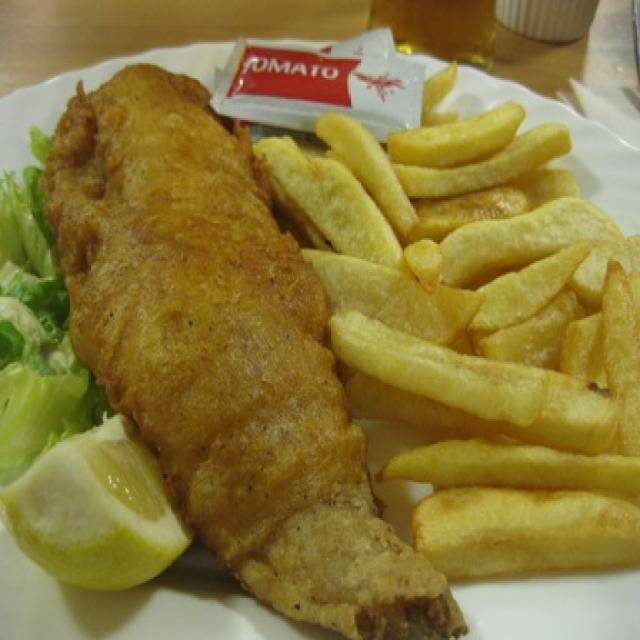炸货点心: (9, 36, 472, 640), (255, 85, 640, 571)
熟制海鲜: (9, 36, 472, 640)
